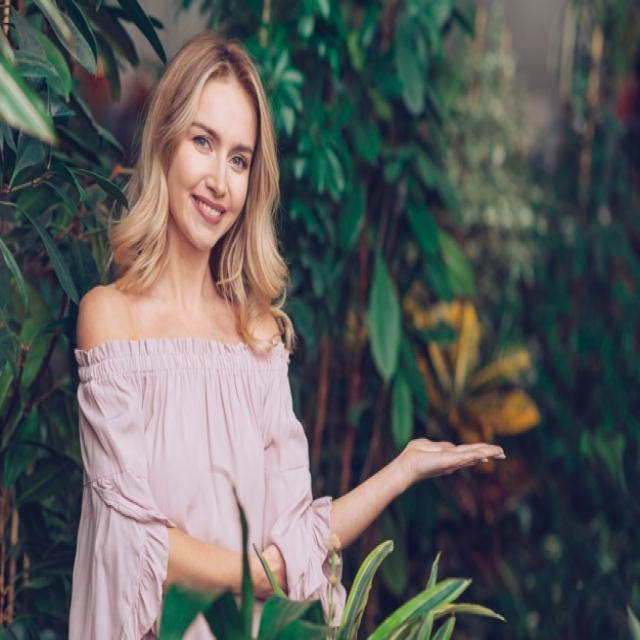human: (70, 26, 508, 639)
